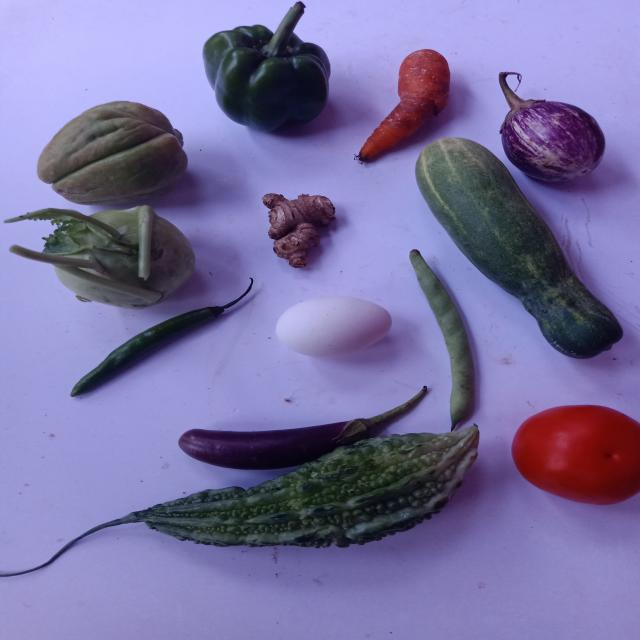Beans: (410, 249, 475, 431)
Bitter Gourd: (80, 426, 479, 548)
Brinjal: (171, 380, 442, 475)
Capsicum: (202, 1, 330, 131)
Carrot: (357, 48, 450, 162)
Chayote: (36, 100, 186, 204), (96, 248, 101, 250)
Cucumber: (416, 137, 624, 359)
Egg: (275, 296, 392, 357)
Eggplant: (499, 71, 606, 181), (241, 77, 243, 79), (243, 79, 244, 81)
Ginger: (262, 193, 335, 268)
Green Chilly: (69, 273, 258, 398)
Tomato: (512, 405, 640, 505)
Turnip: (3, 206, 193, 308)
